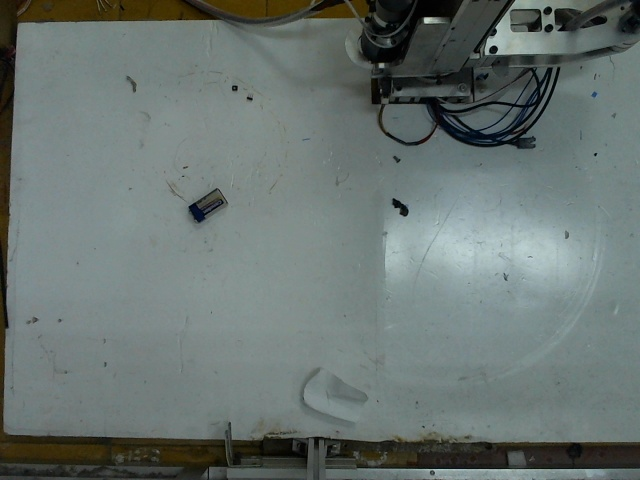battery: (188, 185, 227, 222)
